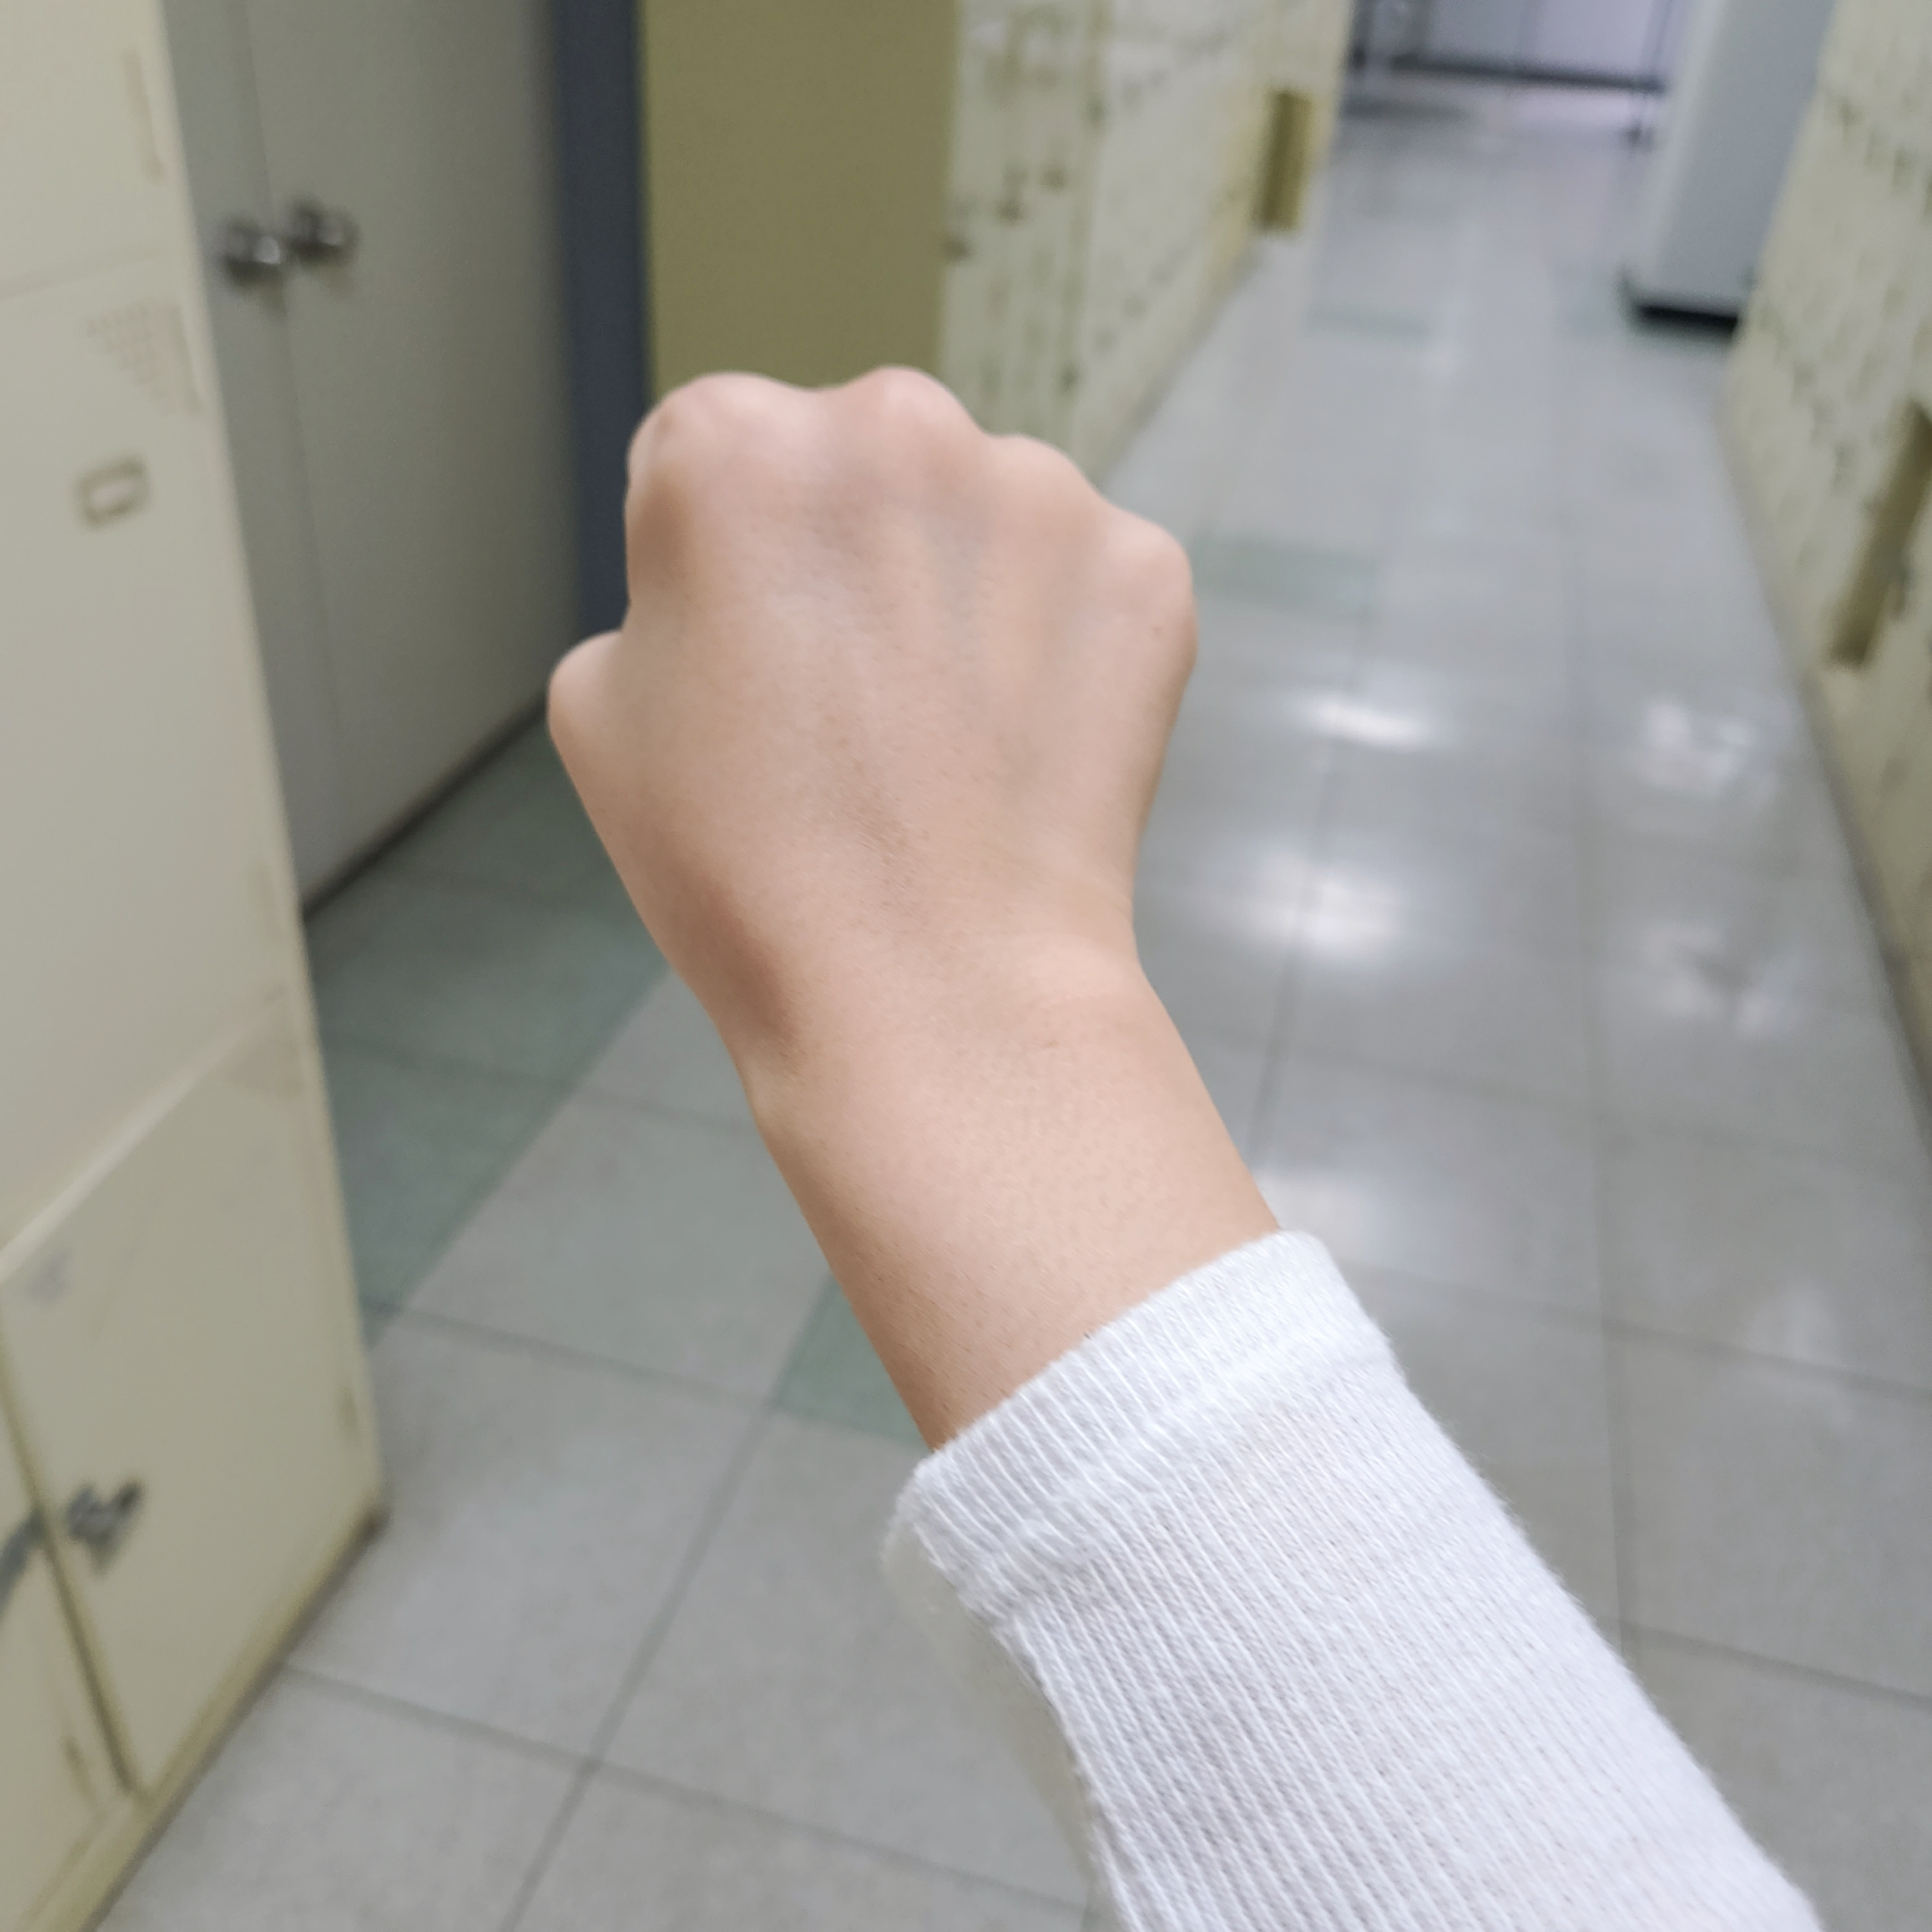smile: (541, 361, 1200, 1003)
